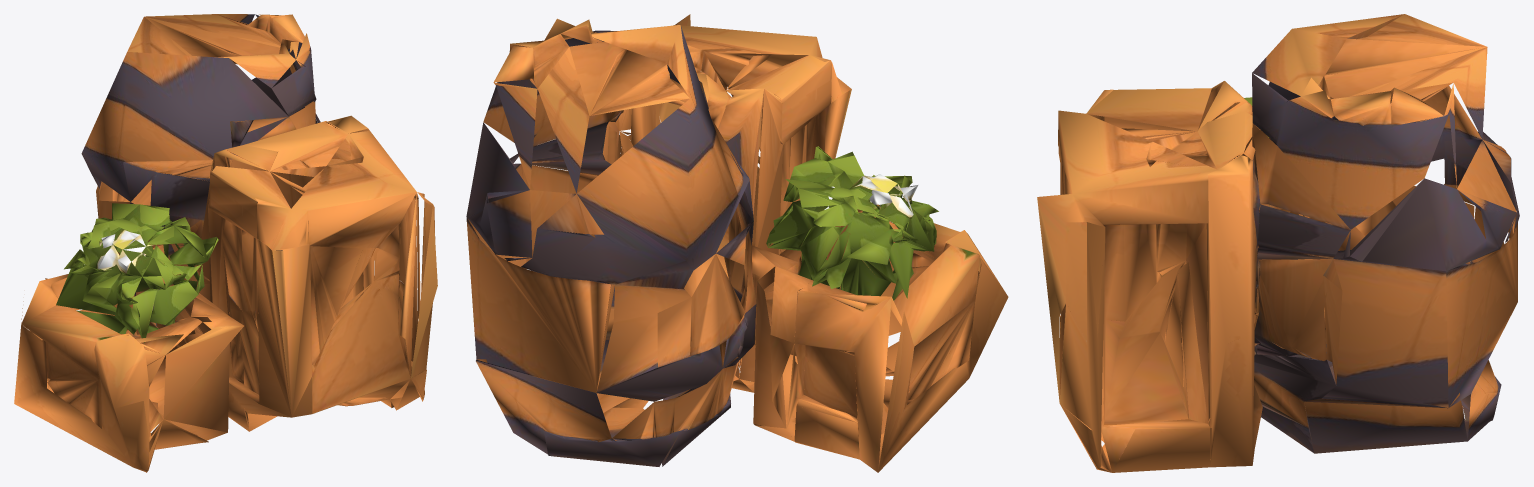
Rendered from M-5_10_barrels.glb.
3 renders of one model, left to right at view 1: azimuth 30°, elevation 25°; view 2: azimuth 150°, elevation 25°; view 3: azimuth 270°, elevation 25°, orthographic. The views are drawn at different scales.
Visible parts, largest first — view 1: barrels; view 2: barrels; view 3: barrels.
Part boxes in pixels (bbox=[...]): barrels: bbox=[14, 14, 437, 472]; barrels: bbox=[466, 14, 1008, 472]; barrels: bbox=[1037, 14, 1519, 472].
Size of the model in its own units: 1.61 by 1.5 by 1.71.
Materials: 1 (1 with a texture image).
